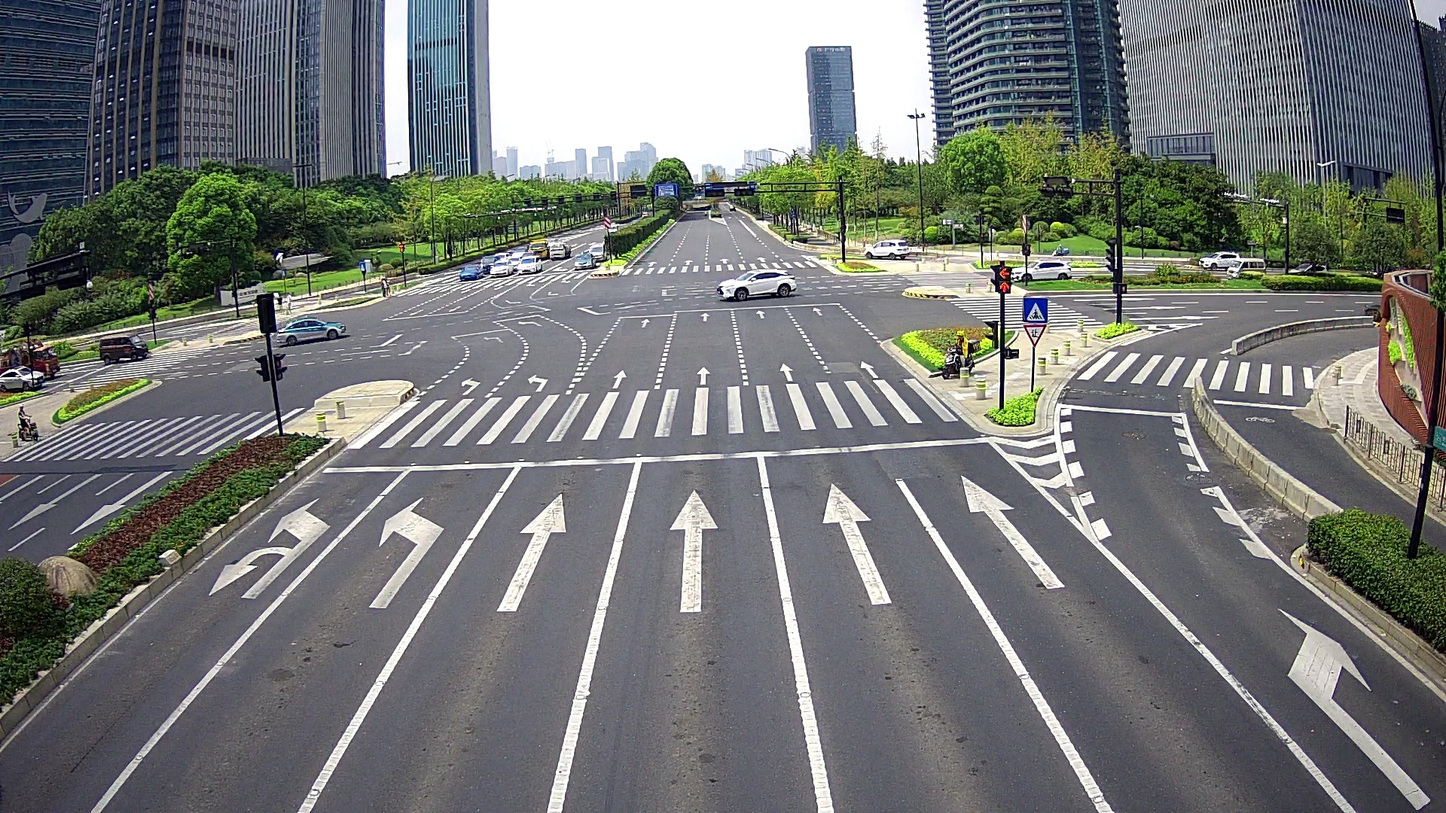person: (953, 329, 972, 371), (15, 401, 32, 438)
vehicle: (713, 265, 801, 304), (266, 312, 349, 349), (96, 330, 154, 365), (1011, 256, 1076, 283), (940, 339, 981, 381), (862, 237, 910, 253), (11, 418, 41, 440)
